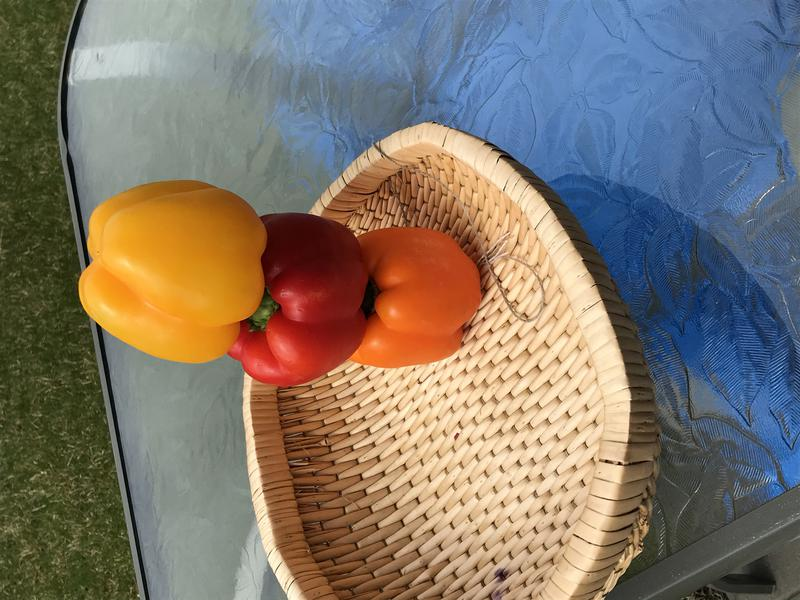orange_pepper: (345, 218, 487, 372)
red_pepper: (223, 203, 371, 400)
yellow_pepper: (72, 172, 276, 374)
